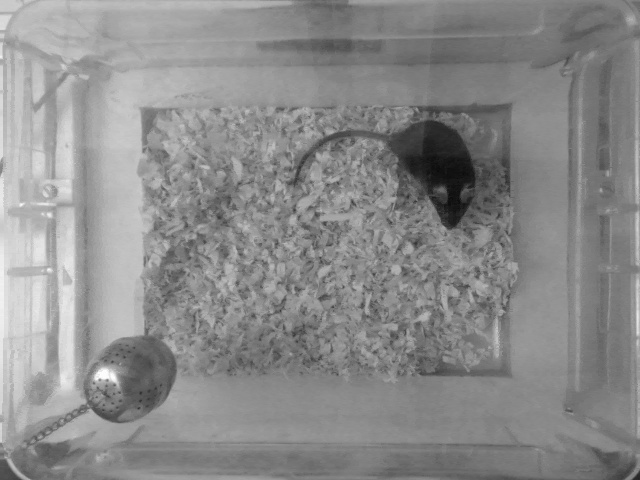mice: (294, 113, 482, 230)
